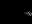person: (24, 9, 32, 17)
